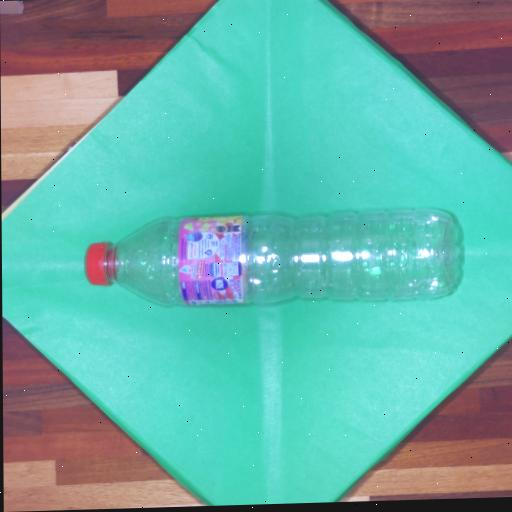bottle: (86, 209, 460, 305)
